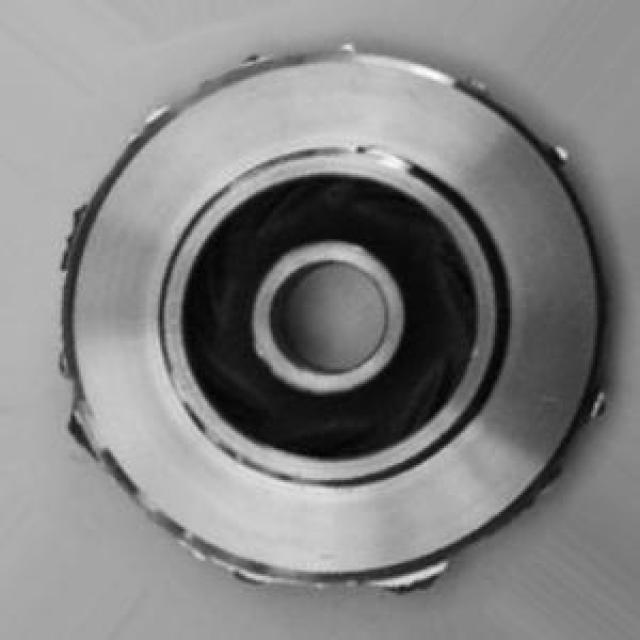Defect: (60, 188, 88, 285)
